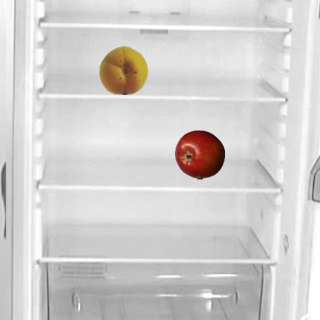Apple Braeburn: (174, 129, 224, 179)
Peach 2: (98, 44, 148, 94)
